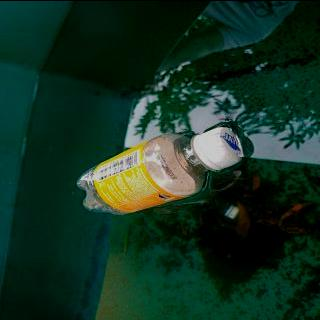bottle: (77, 125, 241, 215)
